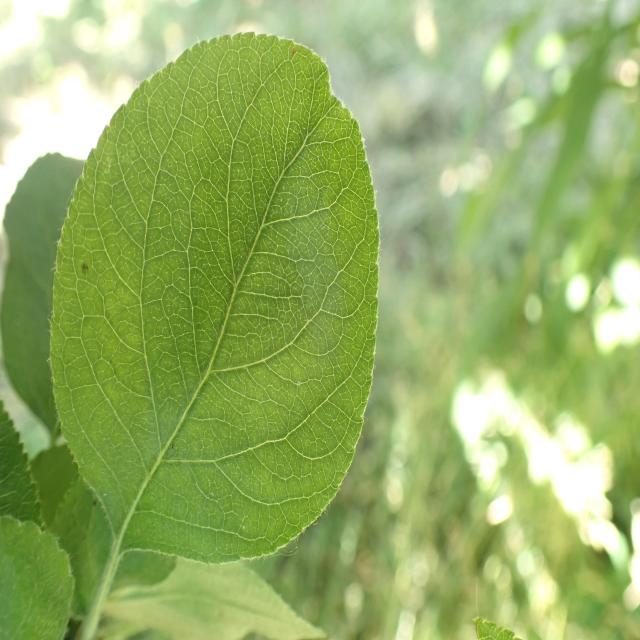healthy: (49, 30, 381, 565), (0, 514, 75, 639)
